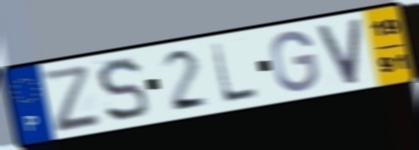2: (158, 48, 210, 114)
G: (269, 29, 321, 94)
L: (208, 41, 262, 106)
S: (94, 56, 152, 125)
V: (314, 15, 364, 88)
Z: (38, 63, 104, 135)
